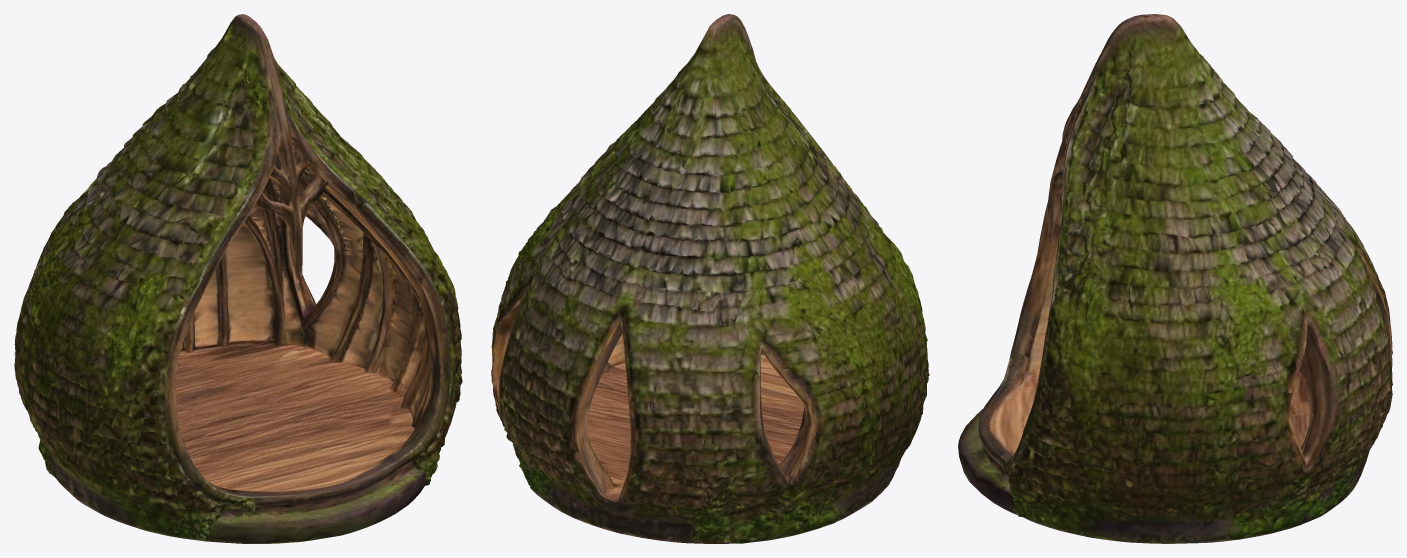
Rendered from Mosswood_Teardrop_Hou.glb.
The picture shows the model from 3 angles, left to right: view 1: azimuth 30°, elevation 25°; view 2: azimuth 150°, elevation 25°; view 3: azimuth 270°, elevation 25°; orthographic projection. The views are drawn at different scales.
Visible parts, largest first — view 1: Mosswood_Teardrop_Hou; view 2: Mosswood_Teardrop_Hou; view 3: Mosswood_Teardrop_Hou.
Part boxes in pixels (left/top/right/bottom): Mosswood_Teardrop_Hou: left=14, top=14, right=462, bottom=543; Mosswood_Teardrop_Hou: left=491, top=14, right=929, bottom=543; Mosswood_Teardrop_Hou: left=958, top=14, right=1392, bottom=543.
Bounding box in the file's own units: 1.71 × 1.9 × 1.66.
Materials: 1 (1 with a texture image).
